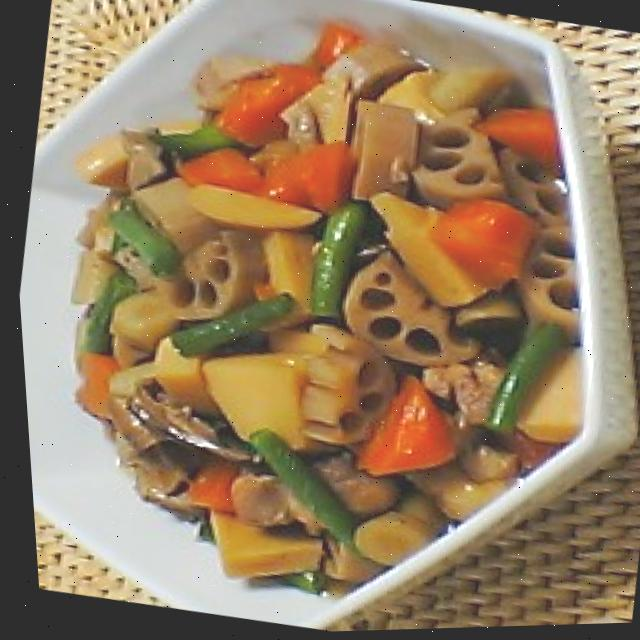鸡肉料理 含炸鸡: (3, 2, 620, 592)
